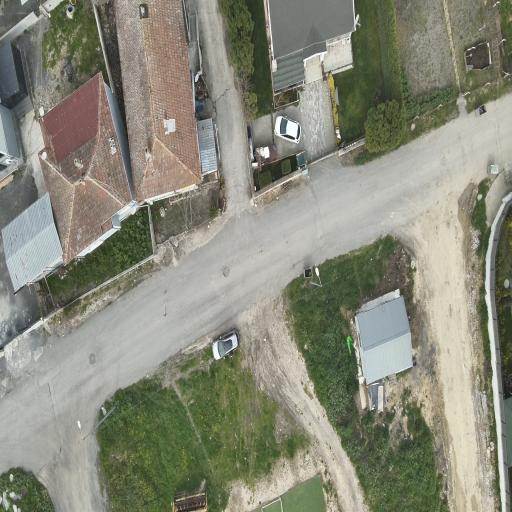car: (213, 330, 239, 359), (275, 116, 301, 143)
